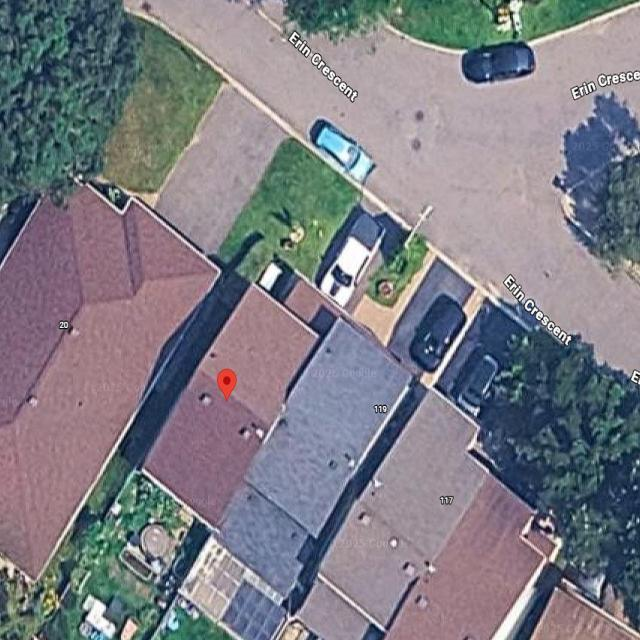Building: (144, 286, 322, 531)
boundaryof property: (38, 138, 404, 639)
obstacle: (317, 214, 384, 306), (410, 289, 470, 376), (313, 119, 377, 182), (458, 40, 539, 89), (458, 350, 500, 415)
walkways: (313, 197, 397, 315)
